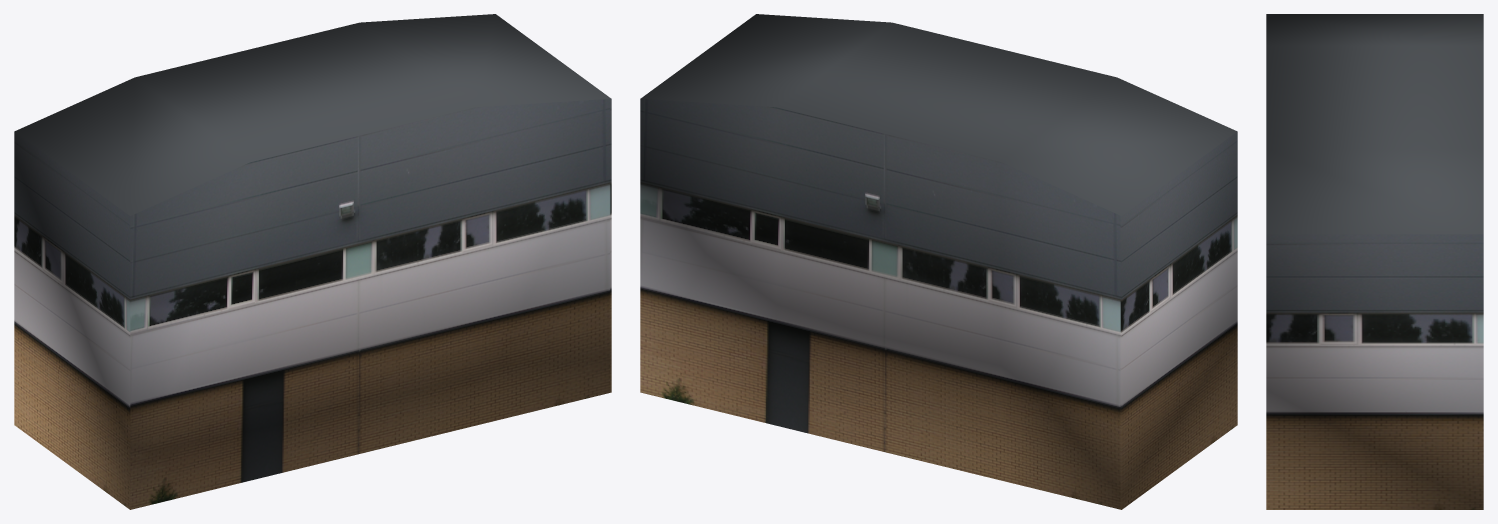
The model's file is building3.fbx.
3 renders of one model, left to right at view 1: azimuth 30°, elevation 25°; view 2: azimuth 150°, elevation 25°; view 3: azimuth 270°, elevation 25°, orthographic. The views are drawn at different scales.
Visible parts, largest first — view 1: scene-building3; view 2: scene-building3; view 3: scene-building3.
Part boxes in pixels (<box>): scene-building3: <box>14,14,611,509</box>; scene-building3: <box>640,14,1237,509</box>; scene-building3: <box>1266,14,1483,509</box>.
Size of the model in its own units: 24 by 15.17 by 10.
Materials: 1 (1 with a texture image).
